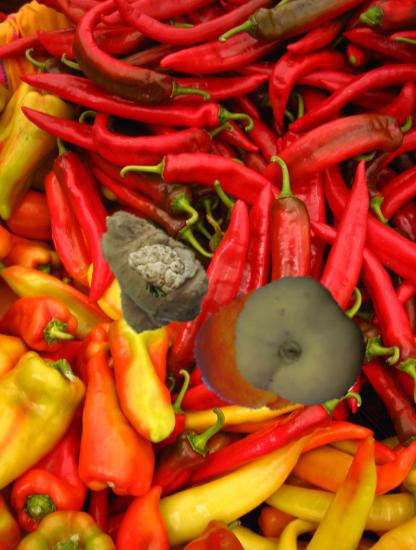Cauliflower: (127, 238, 189, 300)
Ginger: (78, 207, 212, 341)
Mandarine: (197, 279, 340, 422)
Peach: (230, 277, 368, 415)
